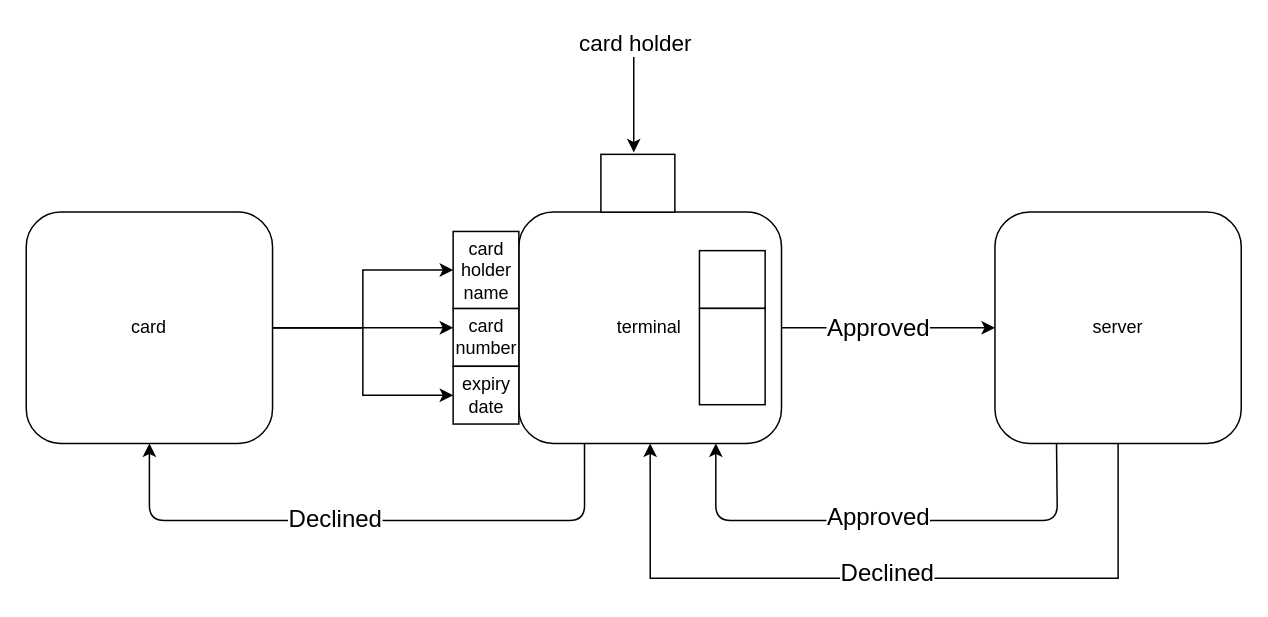
Image size: 1268x617. Some labels were removed from this diagram. Each missing label, with the box of its shape:
max trans amount: (698, 307, 765, 405)
trans amount: (599, 153, 675, 212)
trans date: (698, 249, 765, 308)
